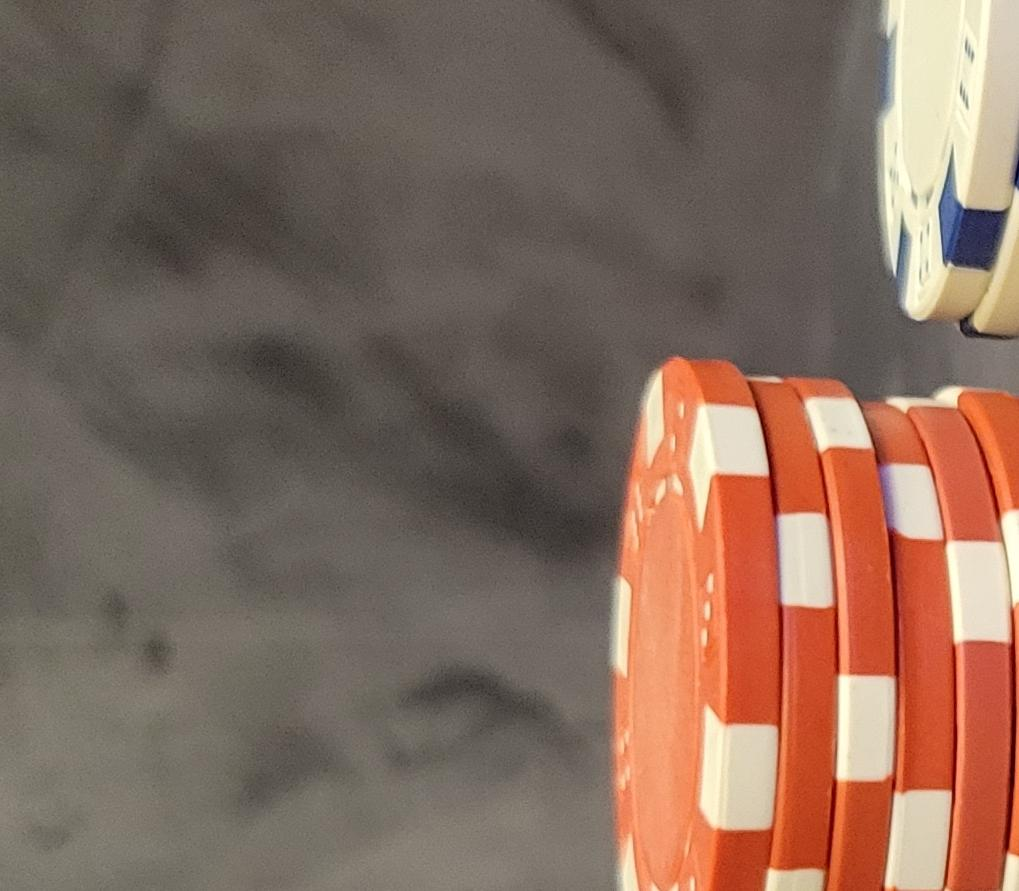Chip: (1, 264, 637, 891)
